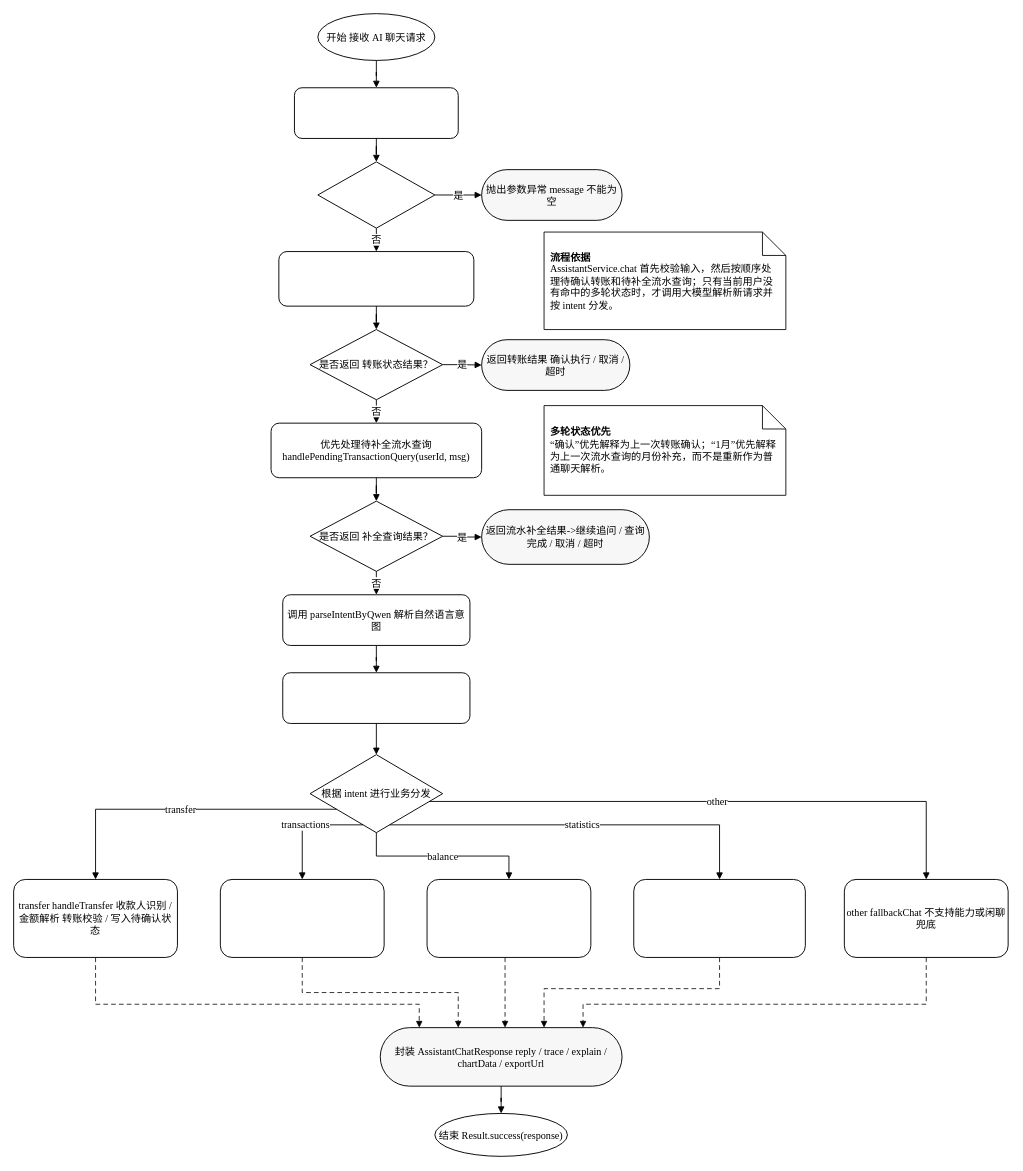
This 1023x1171 diagram has some shape labels left out. Here are the shapes that lost their labels. From the top down, the box of each, then its label:
(294, 87, 458, 139): 读取并修剪 message 校验输入非空
(317, 161, 435, 228): message 是否为空？
(278, 251, 474, 306): 优先处理待确认转账 handlePendingTransfer(userId, msg)
(282, 672, 470, 724): Time.normalizeTimeByText 进行时间解析与纠偏
(219, 879, 384, 958): transactions handleTransactions 构造查询条件 必要时保存待补全状态
(426, 879, 591, 958): balance handleBalance 调用 AccountService 查询账户与余额
(633, 879, 805, 958): statistics handleStatistics 构造 StatisticsQueryDTO 统计计算与分析总结
